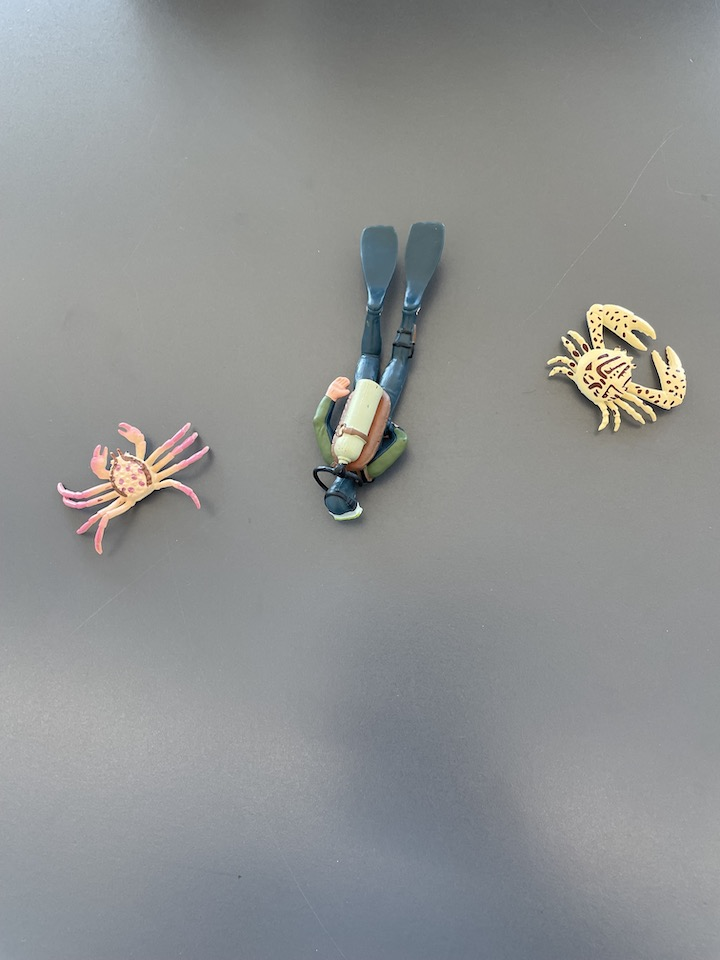crab: (55, 420, 212, 555), (547, 302, 689, 436)
diver: (310, 221, 448, 523)
